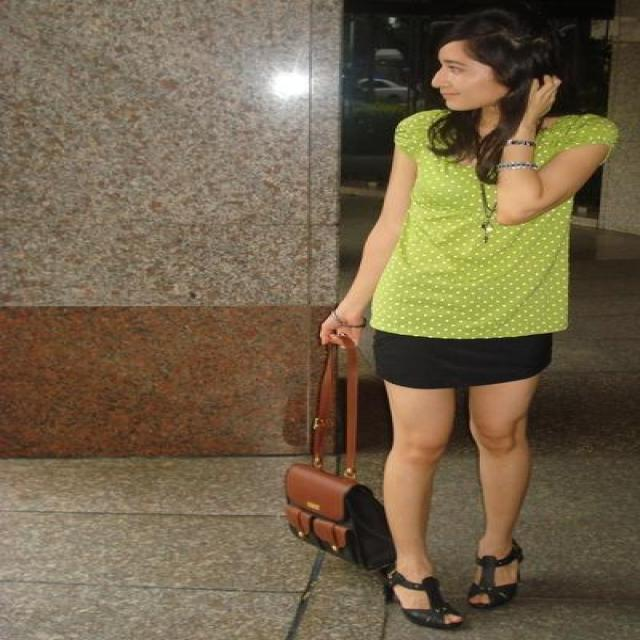bag: (282, 458, 395, 570)
shirt: (370, 110, 616, 338)
shoe: (356, 540, 522, 630)
skirt: (370, 330, 552, 396)
